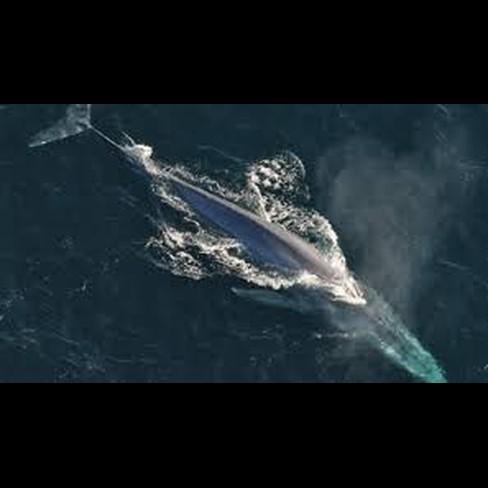bluewhale: (26, 104, 449, 382)
